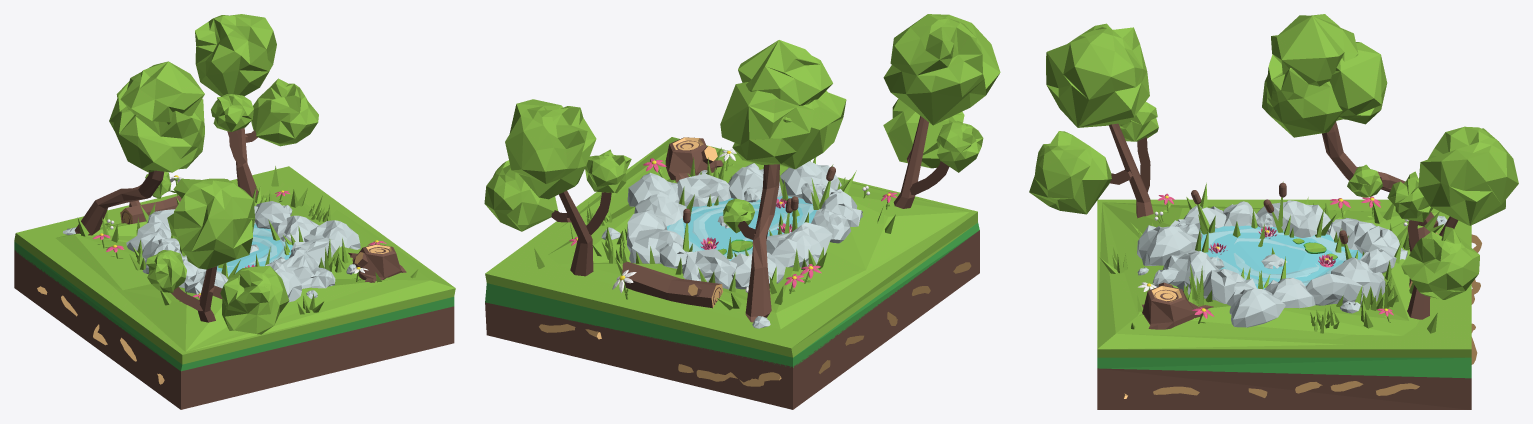
File: Pond-transformed.glb
3 renders of one model, left to right at view 1: azimuth 30°, elevation 25°; view 2: azimuth 150°, elevation 25°; view 3: azimuth 270°, elevation 25°, orthographic. The views are drawn at different scales.
Parts seen in each view (by area): view 1: Node; view 2: Node; view 3: Node.
Boxes of the visible parts, box(x1,y1,x2,y2) form: Node: box(14, 14, 455, 409); Node: box(484, 14, 1000, 409); Node: box(1029, 14, 1518, 409).
Bounding box in the file's own units: 0.9822 × 0.8031 × 1.23.
Materials: 2 (2 with a texture image).
